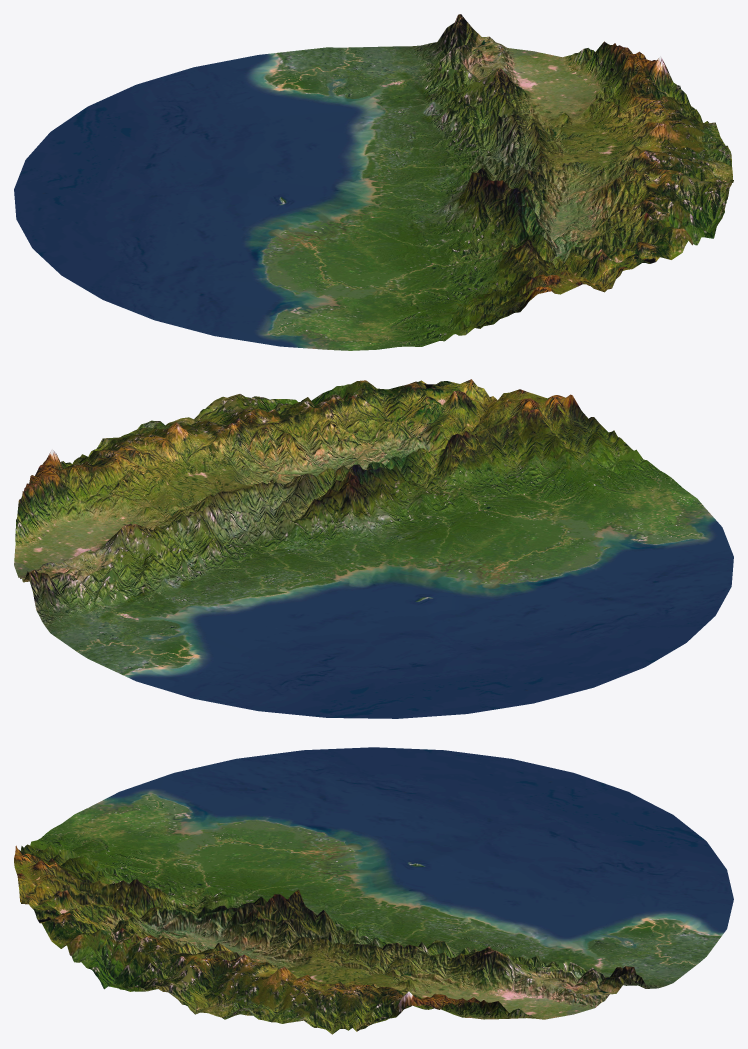
Rendered from pacific_mesh.fbx.
3 views of the same model, one above another, from view 1: azimuth 30°, elevation 25°; view 2: azimuth 150°, elevation 25°; view 3: azimuth 270°, elevation 25° (orthographic).
Parts seen in each view (by area): view 1: pacificR; view 2: pacificR; view 3: pacificR.
Boxes of the visible parts, x1,y1,x2,y2 form: pacificR: (14, 14, 733, 350); pacificR: (14, 379, 733, 718); pacificR: (14, 747, 733, 1034).
Bounding box in the file's own units: 39965 × 3460 × 39959.
1 material, 1 textured.
